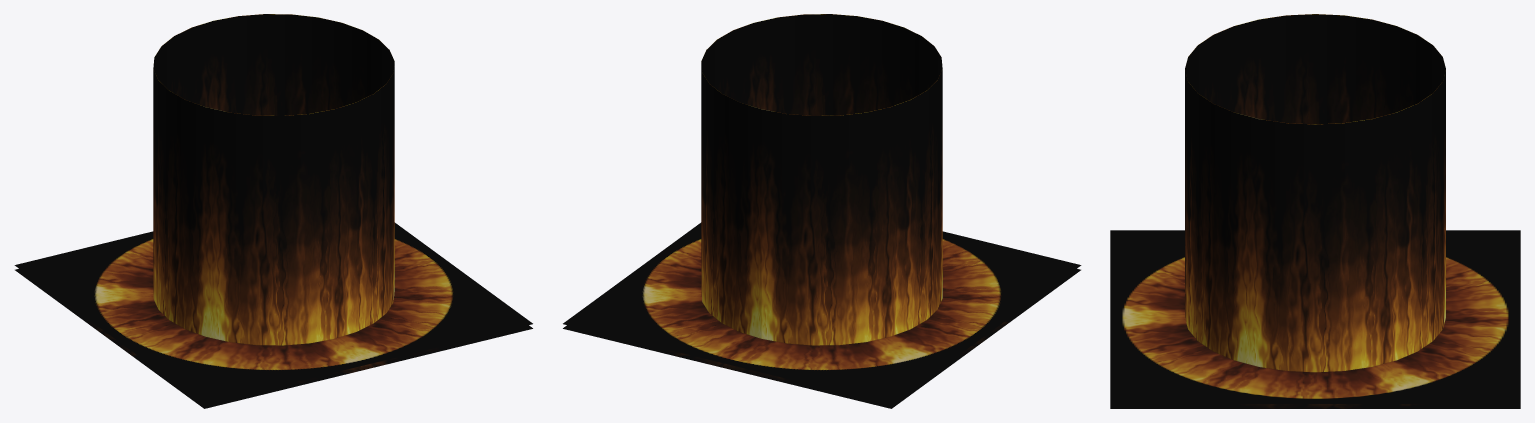
Rendered from fx_magic_plane_a.FBX.
The picture shows the model from 3 angles, left to right: view 1: azimuth 30°, elevation 25°; view 2: azimuth 150°, elevation 25°; view 3: azimuth 270°, elevation 25°; orthographic projection. The views are drawn at different scales.
Parts seen in each view (by area): view 1: fx_cylinder_a, fx_Plane_b, fx_Plane_a; view 2: fx_cylinder_a, fx_Plane_b, fx_Plane_a; view 3: fx_cylinder_a, fx_Plane_b, fx_Plane_a.
Part boxes in pixels (x1,y1,x2,y2): fx_cylinder_a: (153,14,394,345); fx_Plane_b: (14,222,532,404); fx_Plane_a: (15,269,532,408); fx_cylinder_a: (701,14,942,345); fx_Plane_b: (563,222,1081,404); fx_Plane_a: (563,269,1080,408); fx_cylinder_a: (1185,14,1445,372); fx_Plane_b: (1110,230,1520,403); fx_Plane_a: (1110,404,1520,408).
Bounding box in the file's own units: 150 × 102 × 150.
